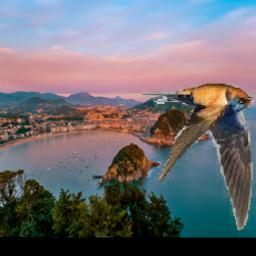Swallow: (142, 84, 256, 231)
